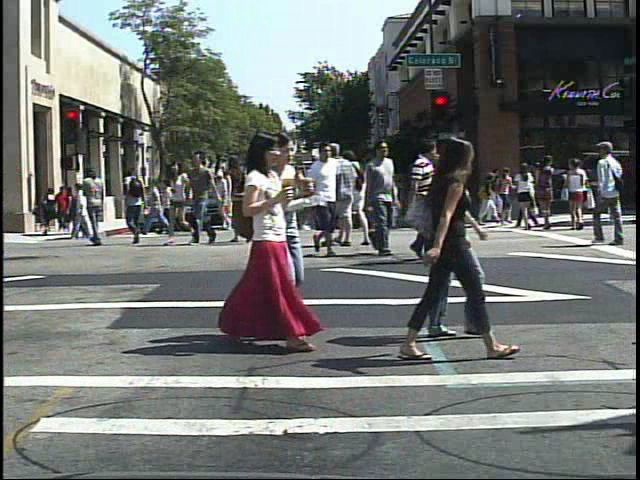person: (394, 132, 519, 368), (230, 127, 317, 353), (417, 129, 483, 342), (404, 133, 460, 264), (267, 133, 304, 286), (360, 137, 405, 261), (308, 135, 348, 261), (590, 135, 632, 248), (325, 139, 361, 248), (161, 156, 198, 249), (223, 147, 258, 245), (345, 144, 376, 249), (188, 148, 220, 248), (255, 150, 284, 246), (78, 164, 110, 246), (121, 164, 151, 246), (513, 160, 541, 234), (300, 163, 321, 232), (56, 183, 76, 233)
